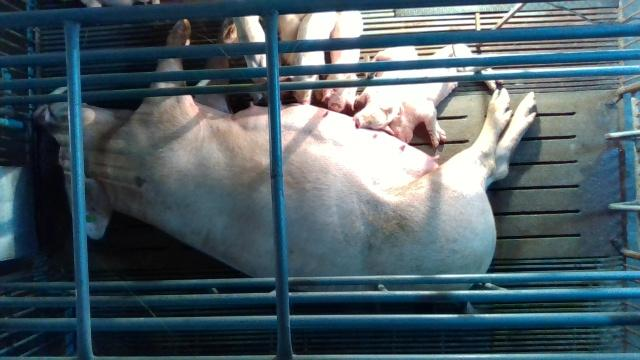piglet: (390, 44, 505, 145), (355, 46, 419, 135), (287, 11, 338, 104), (322, 11, 364, 112), (237, 14, 267, 104)
sow-sleep-lactate: (36, 18, 534, 289)
